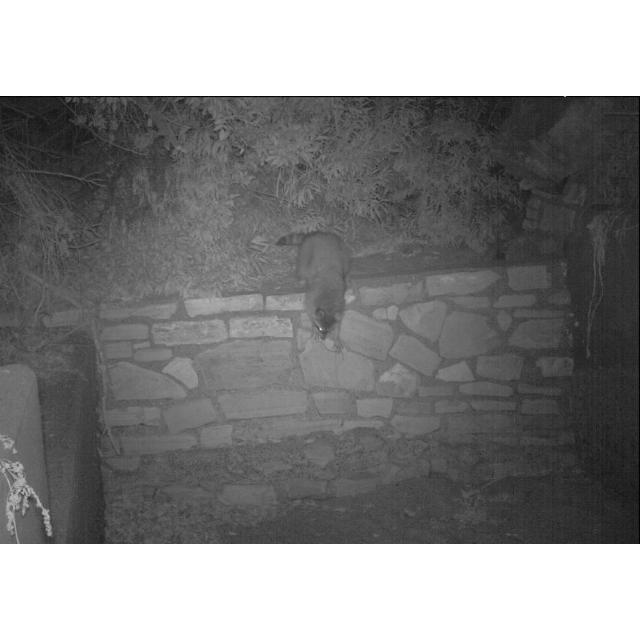animals: (274, 227, 352, 347)
